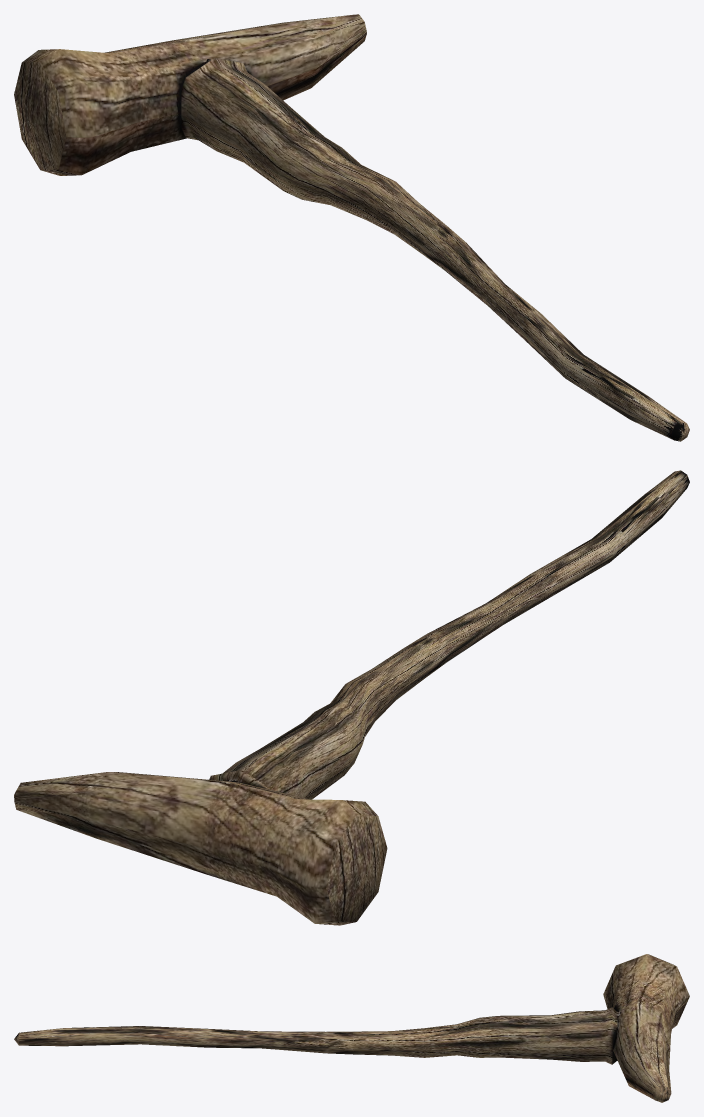
File: wand__oto_ot_catgot1.glb
3 views of the same model, one above another, from view 1: azimuth 30°, elevation 25°; view 2: azimuth 150°, elevation 25°; view 3: azimuth 270°, elevation 25° (orthographic). The views are drawn at different scales.
Bounding box in the file's own units: 0.6338 × 0.223 × 1.65.
Materials: 1 (1 with a texture image).
